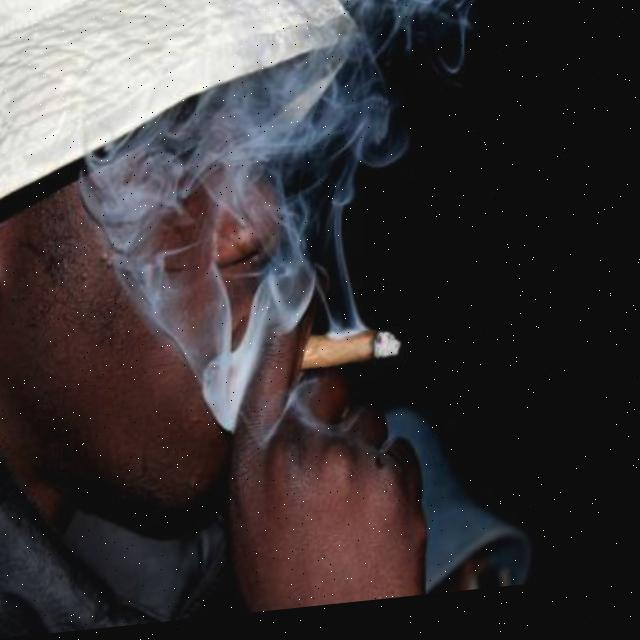cigarette: (293, 328, 404, 378)
